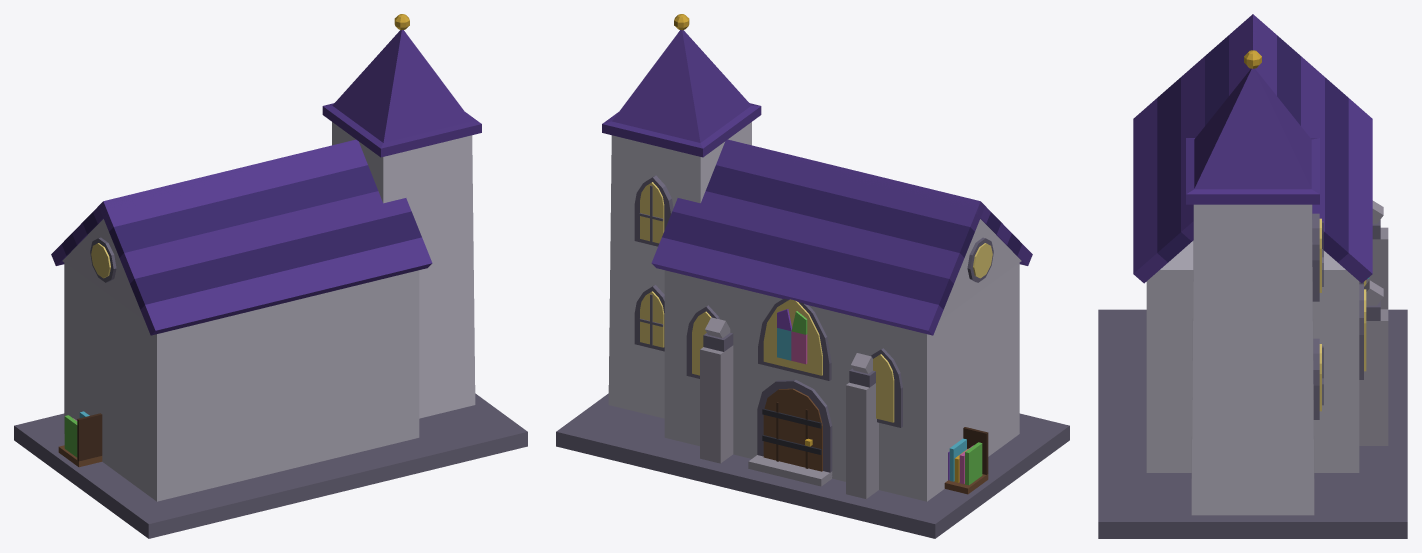
Rendered from Decor_WizardTower_Library.fbx.
3 views of the same model, side by side, from view 1: azimuth 30°, elevation 25°; view 2: azimuth 150°, elevation 25°; view 3: azimuth 270°, elevation 25° (orthographic). The views are drawn at different scales.
Parts seen in each view (by area): view 1: Library_Body; view 2: Library_Body; view 3: Library_Body.
Part boxes in pixels (box(x1,y1,x2,y2)): Library_Body: box(14, 14, 527, 538); Library_Body: box(556, 14, 1069, 538); Library_Body: box(1098, 14, 1407, 538).
Bounding box in the file's own units: 26 × 26 × 16.
